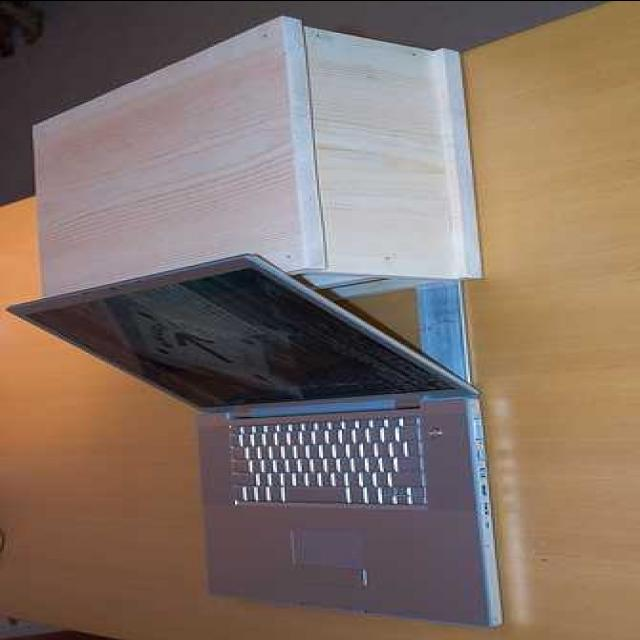laptop: (9, 255, 483, 608)
